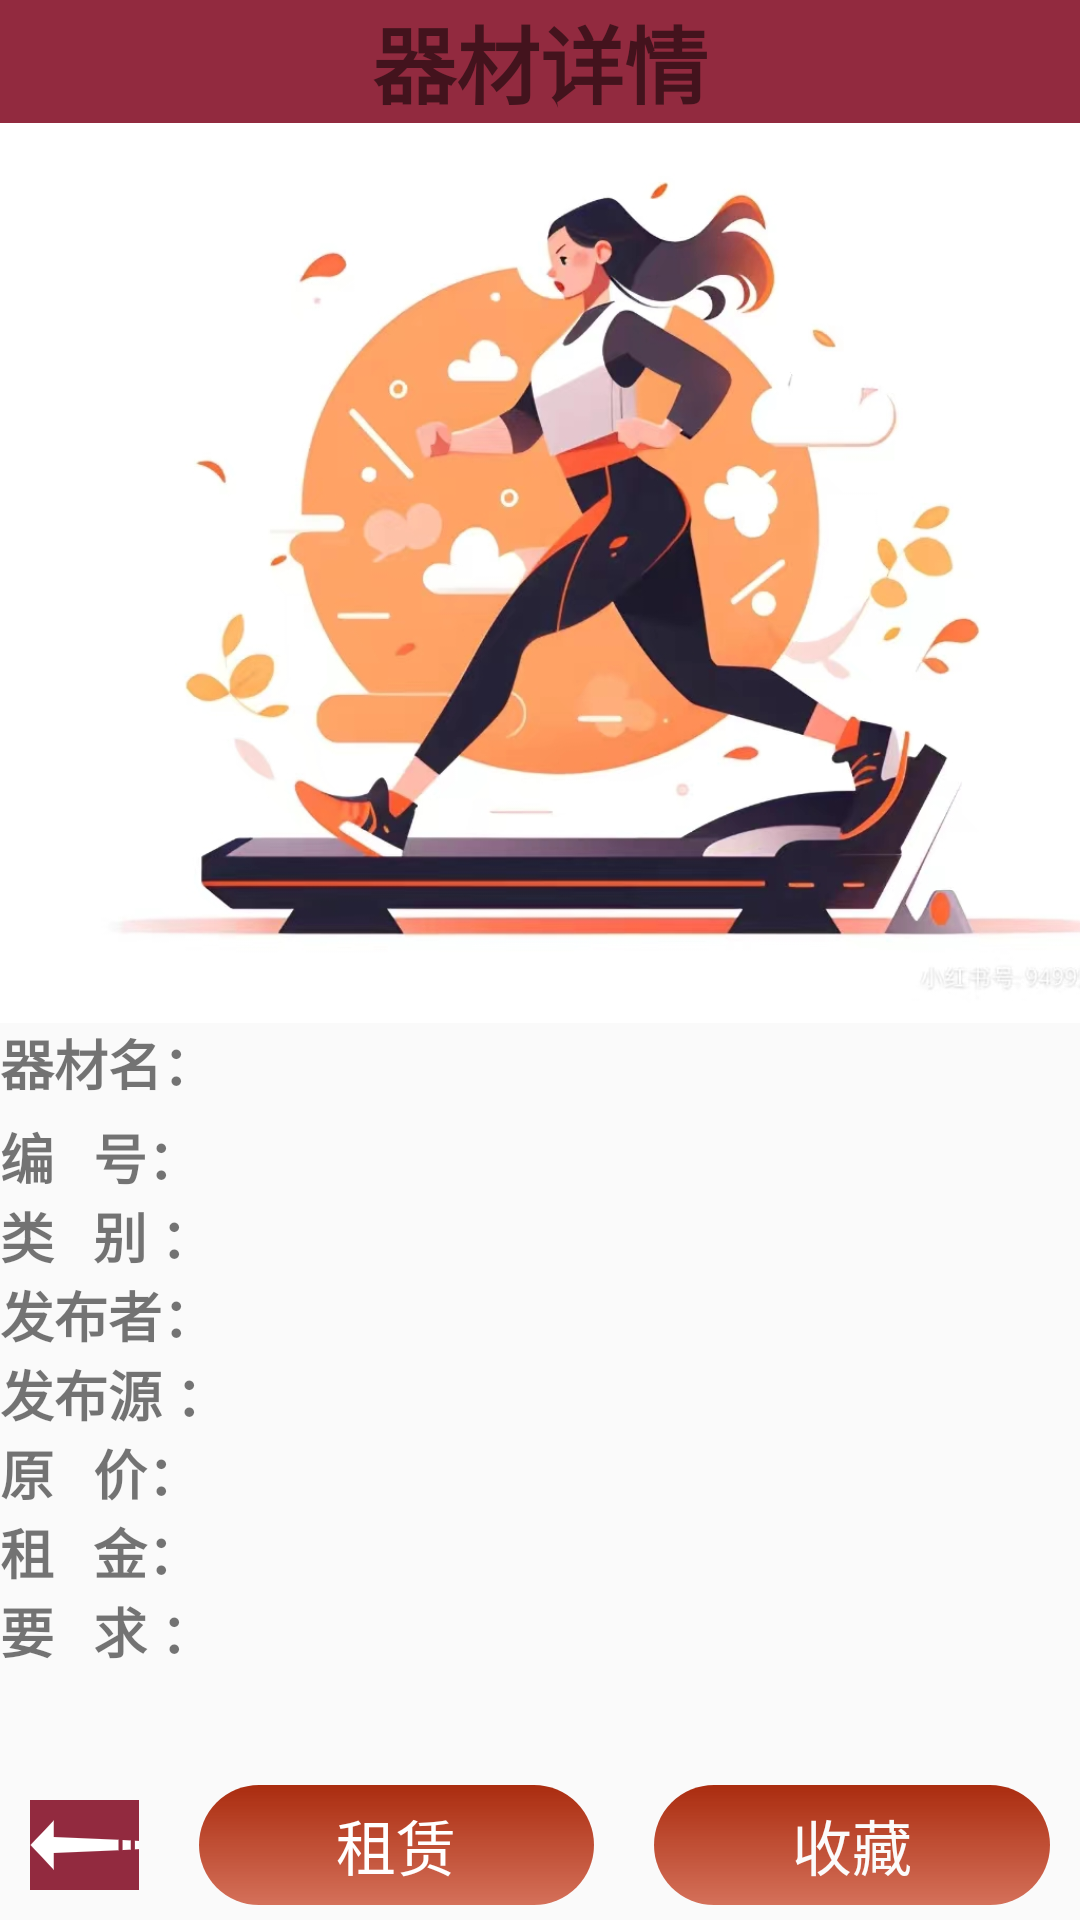

Screen size 1080*1920. Icon name, then its center in pixels as (x=x, y=y):
left arrow: (x=84, y=1845)
